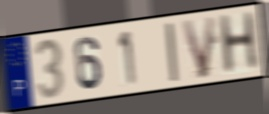1: (116, 28, 138, 88)
3: (33, 36, 68, 101)
6: (73, 35, 104, 92)
H: (216, 10, 261, 78)
I: (163, 20, 181, 85)
V: (180, 14, 218, 81)
